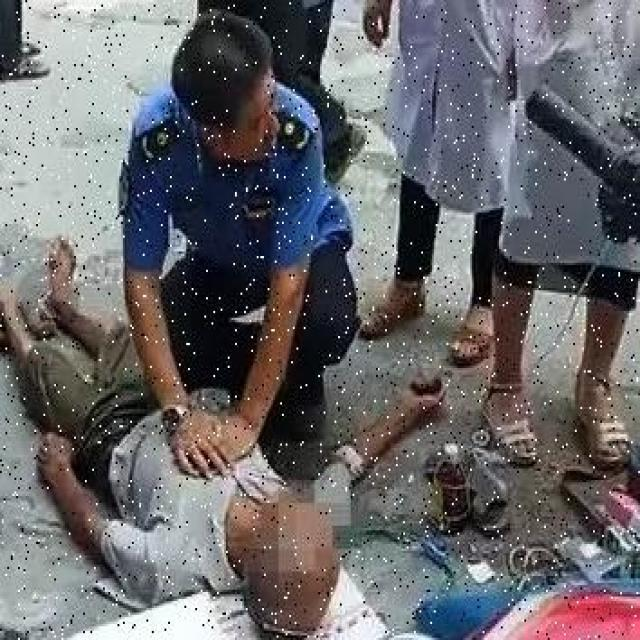fall: (2, 251, 358, 638)
